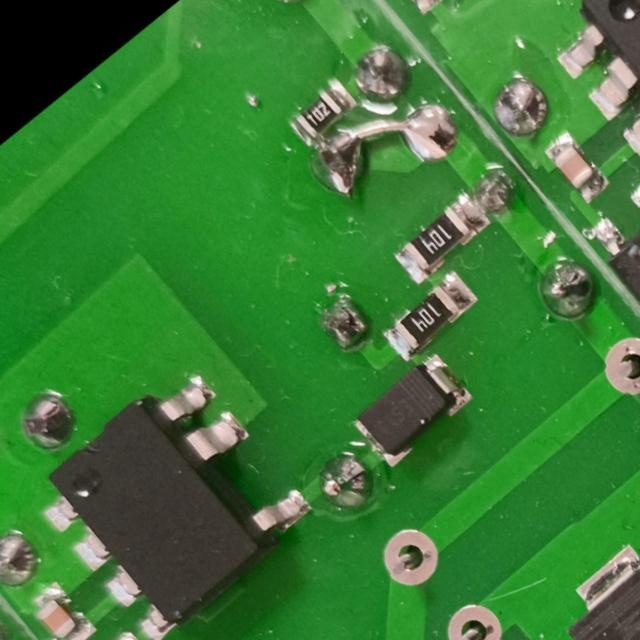chip-capacitor: (541, 131, 609, 205), (23, 578, 99, 640)
chip-resistor: (383, 189, 493, 290), (374, 268, 482, 368), (280, 76, 361, 151)
diode: (342, 347, 478, 477)
ic: (21, 354, 319, 640)
